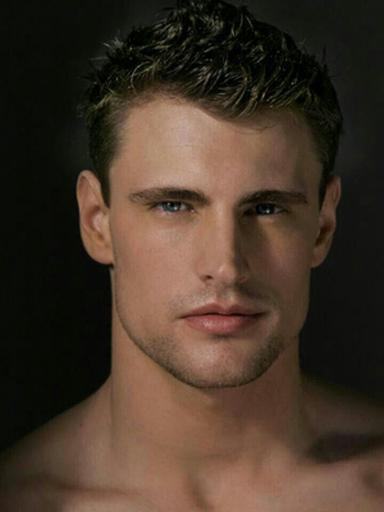left_eye: (242, 201, 293, 222)
left_lip_corner: (250, 307, 274, 326)
right_eye: (146, 199, 200, 219)
right_lip_corner: (176, 309, 194, 330)
